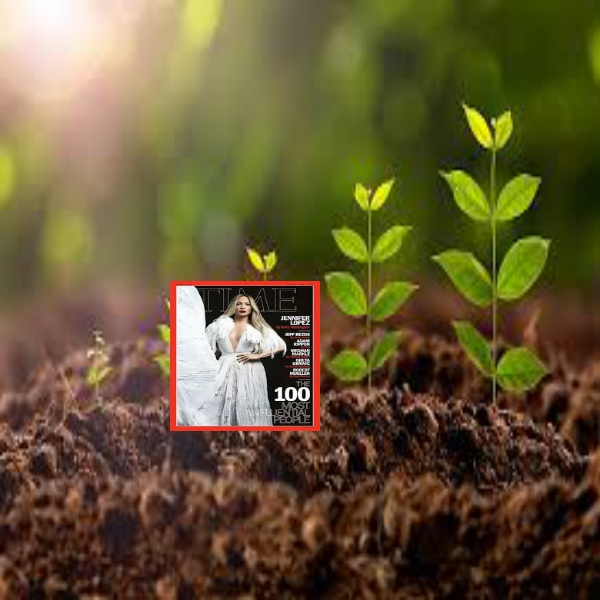time_cover: (163, 263, 325, 436)
